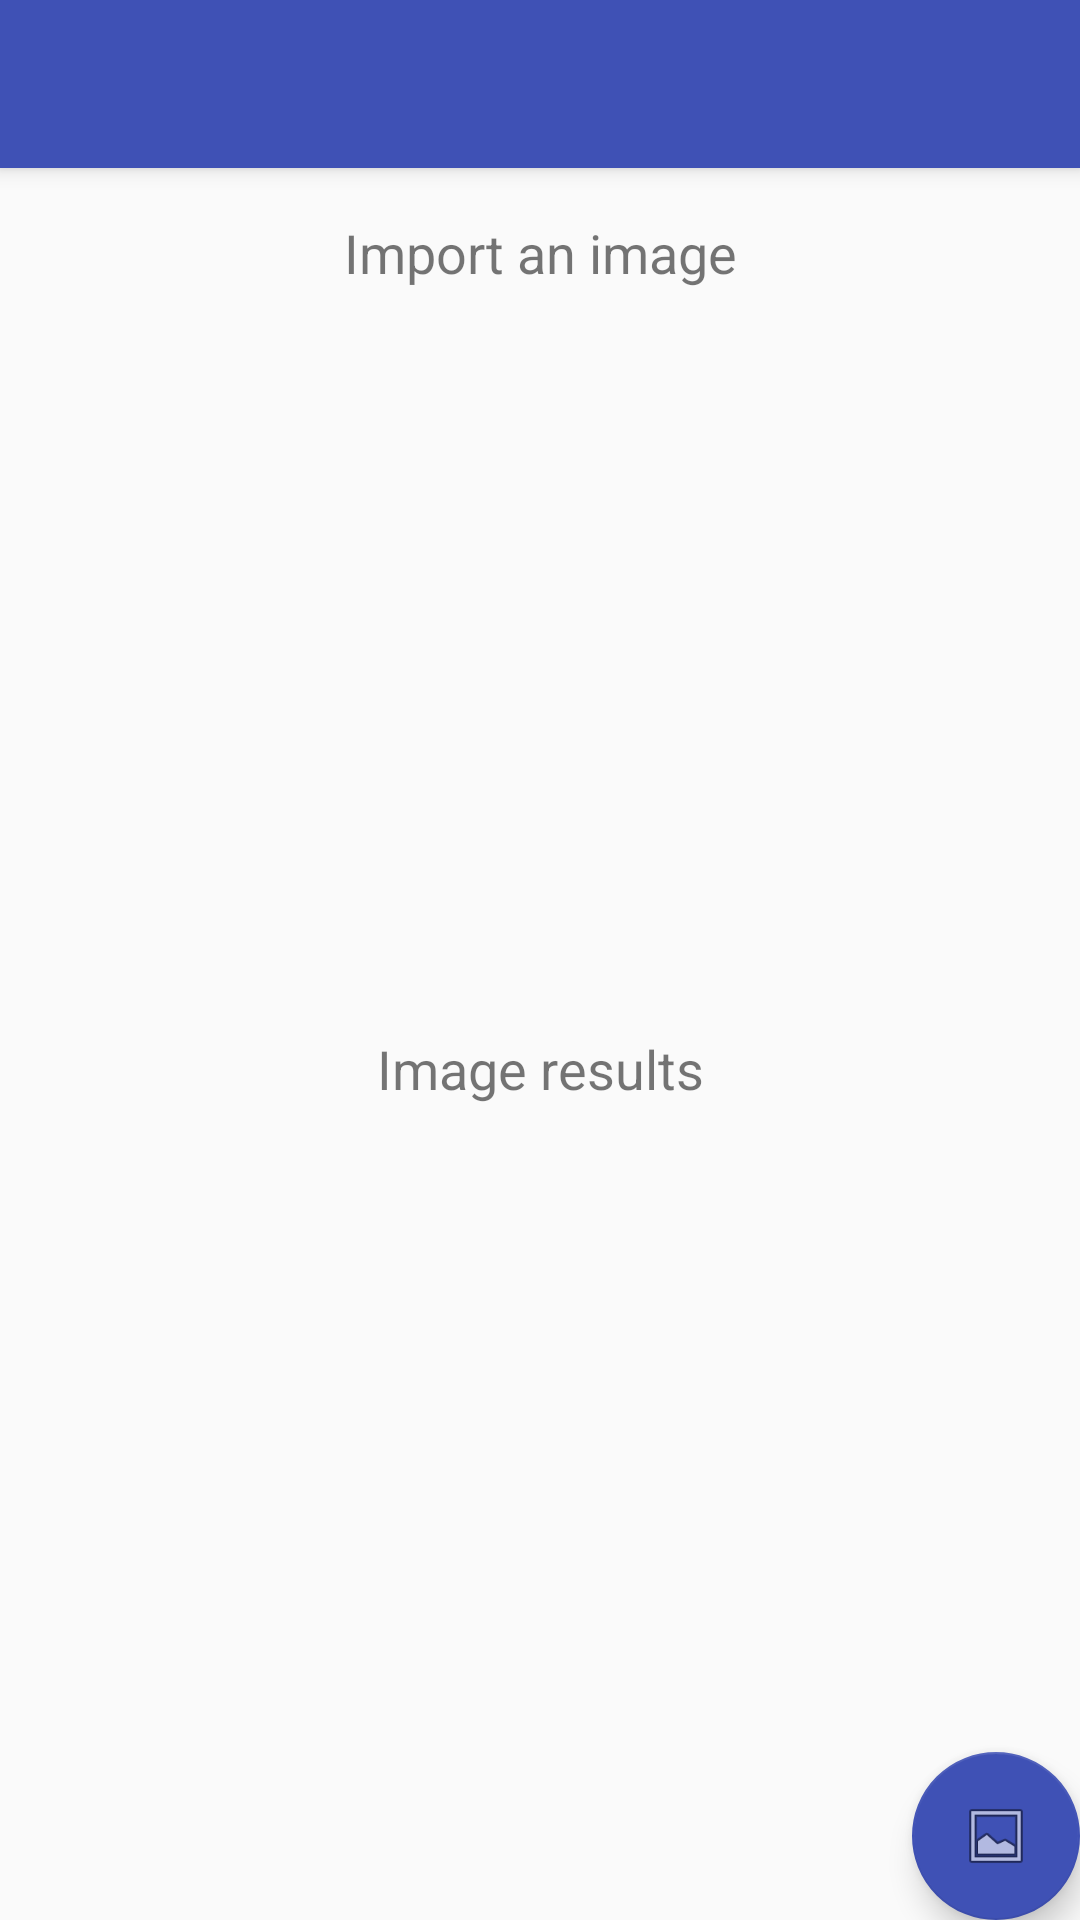

Named icons in this screenshot (1080 x 1920) and their centers, (x,y):
gallery: (996,1836)
